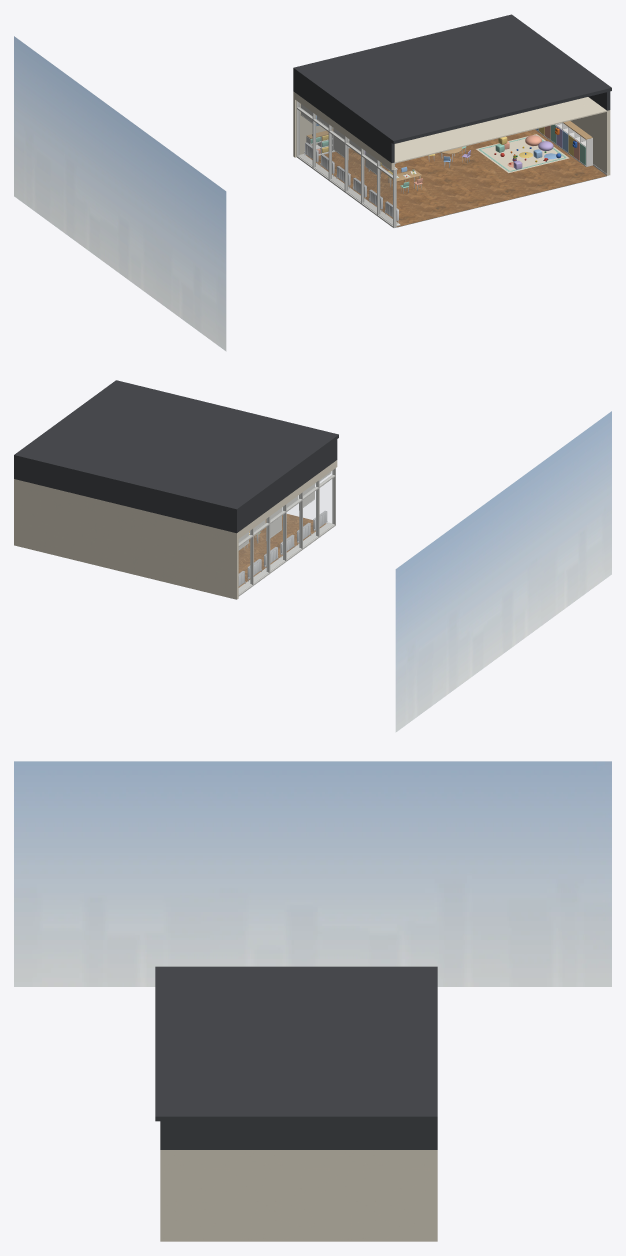
The model's file is kindergarten.glb.
3 views of the same model, one above another, from view 1: azimuth 30°, elevation 25°; view 2: azimuth 150°, elevation 25°; view 3: azimuth 270°, elevation 25° (orthographic). The views are drawn at different scales.
Visible parts, largest first — view 1: city, slab, room, glass, windows, play_corner, lockers, radiators, kids_tables; view 2: city, slab, room, glass, windows, radiators; view 3: city, slab, room.
Part boxes in pixels (x1,y1,x2,y2): city: (14, 36, 226, 351); slab: (293, 14, 611, 162); room: (293, 91, 610, 227); glass: (298, 103, 392, 223); windows: (296, 101, 400, 227); play_corner: (476, 134, 569, 173); lockers: (535, 121, 592, 166); radiators: (304, 142, 398, 223); kids_tables: (364, 146, 470, 193); city: (395, 411, 611, 732); slab: (14, 380, 338, 533); room: (14, 460, 337, 599); glass: (239, 470, 333, 592); windows: (238, 468, 335, 596); radiators: (238, 510, 327, 586); city: (14, 761, 611, 986); slab: (155, 966, 437, 1149); room: (160, 1150, 437, 1241).
Bounding box in the file's own units: 21.35 × 7.5 × 18.
45 materials, 6 textured.
